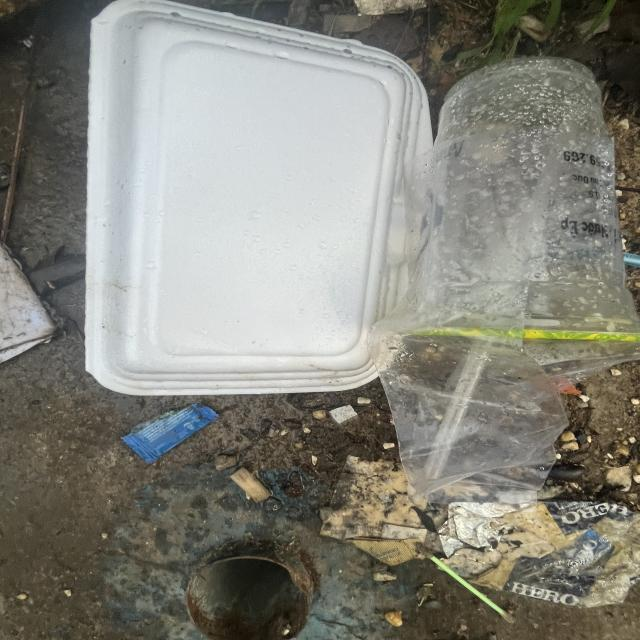bag: (83, 0, 434, 397)
drinking straw: (419, 338, 494, 481)
packet: (119, 401, 221, 466)
plastic glass: (410, 55, 640, 344)
